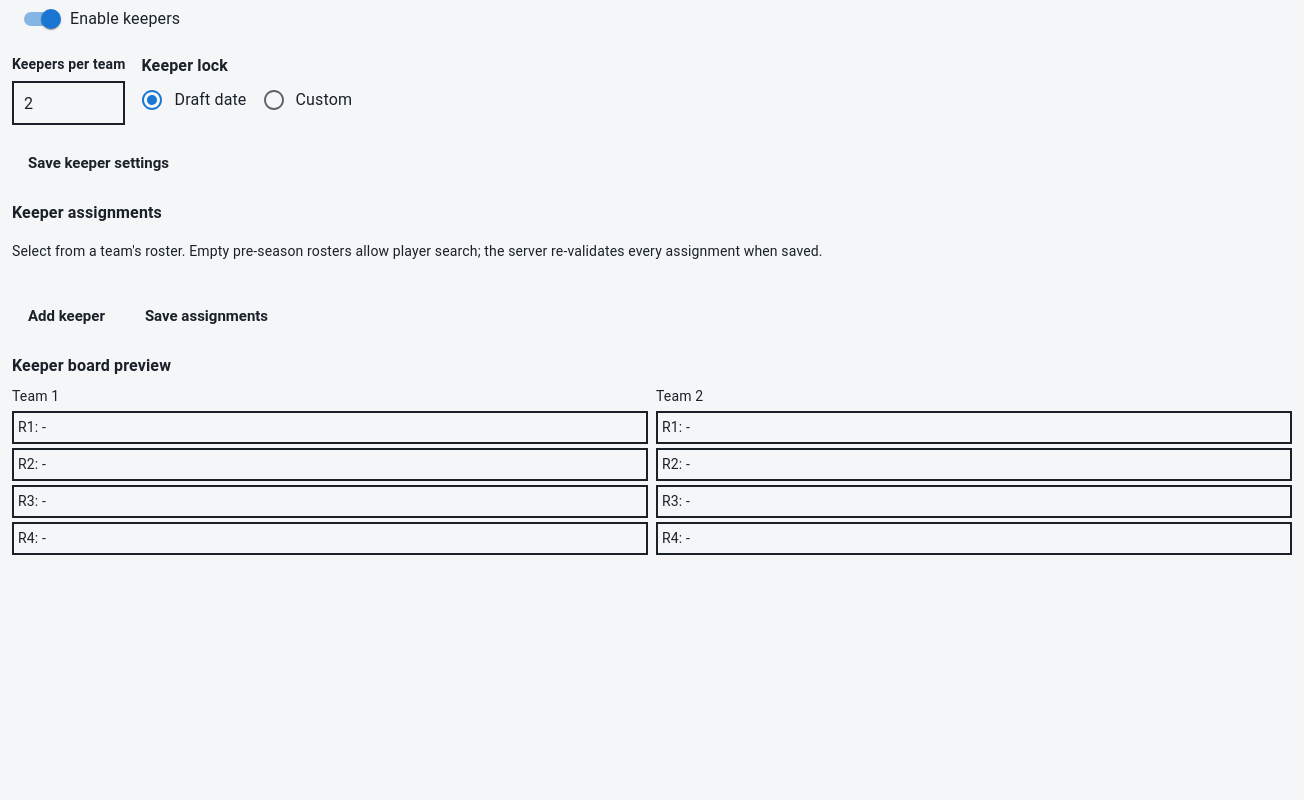
keeper player search › discards a stale player-search response after a newer search resolves first
This screenshot has width=1304, height=800.
Click the button "Add keeper": (66, 316) [12,294,121,338]
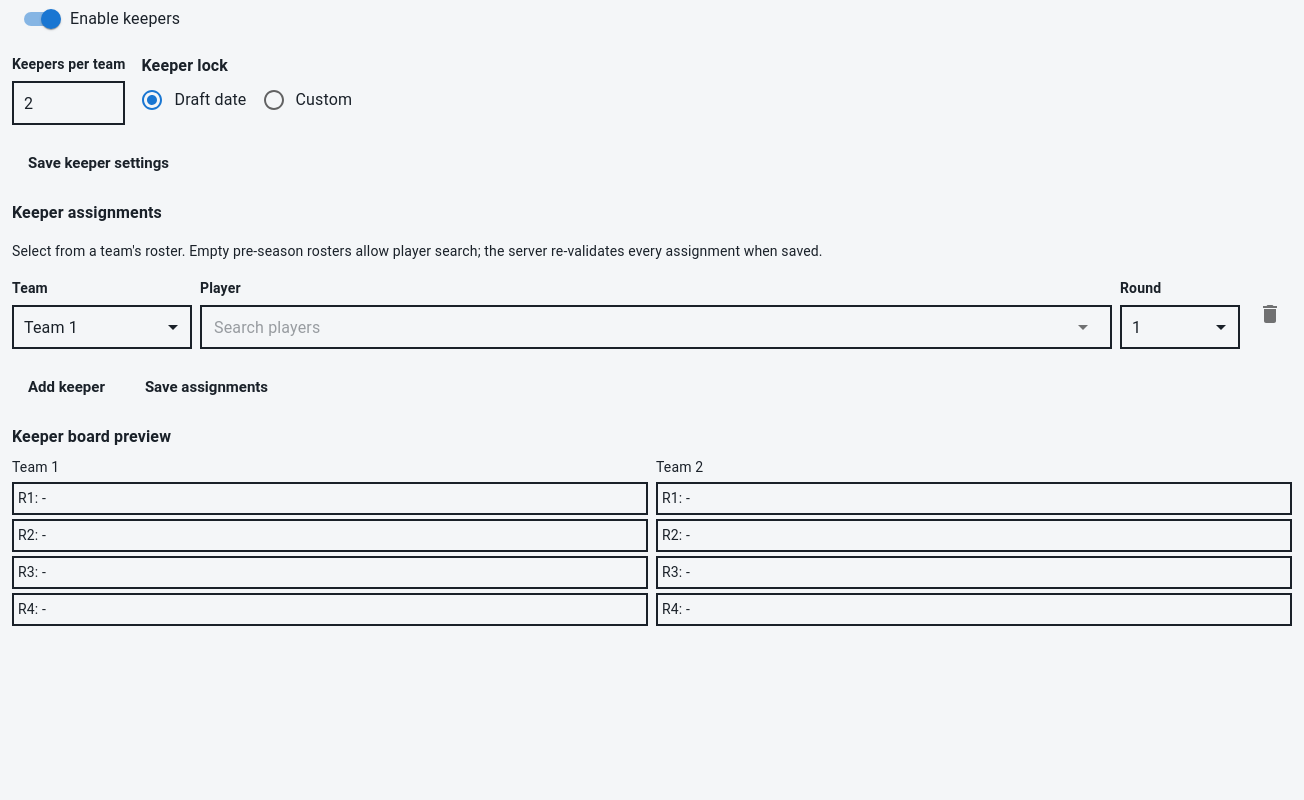
In the dropdown labelled "Player": (641, 327) [209,305,1073,349], type "aar"
Wait 250 ms
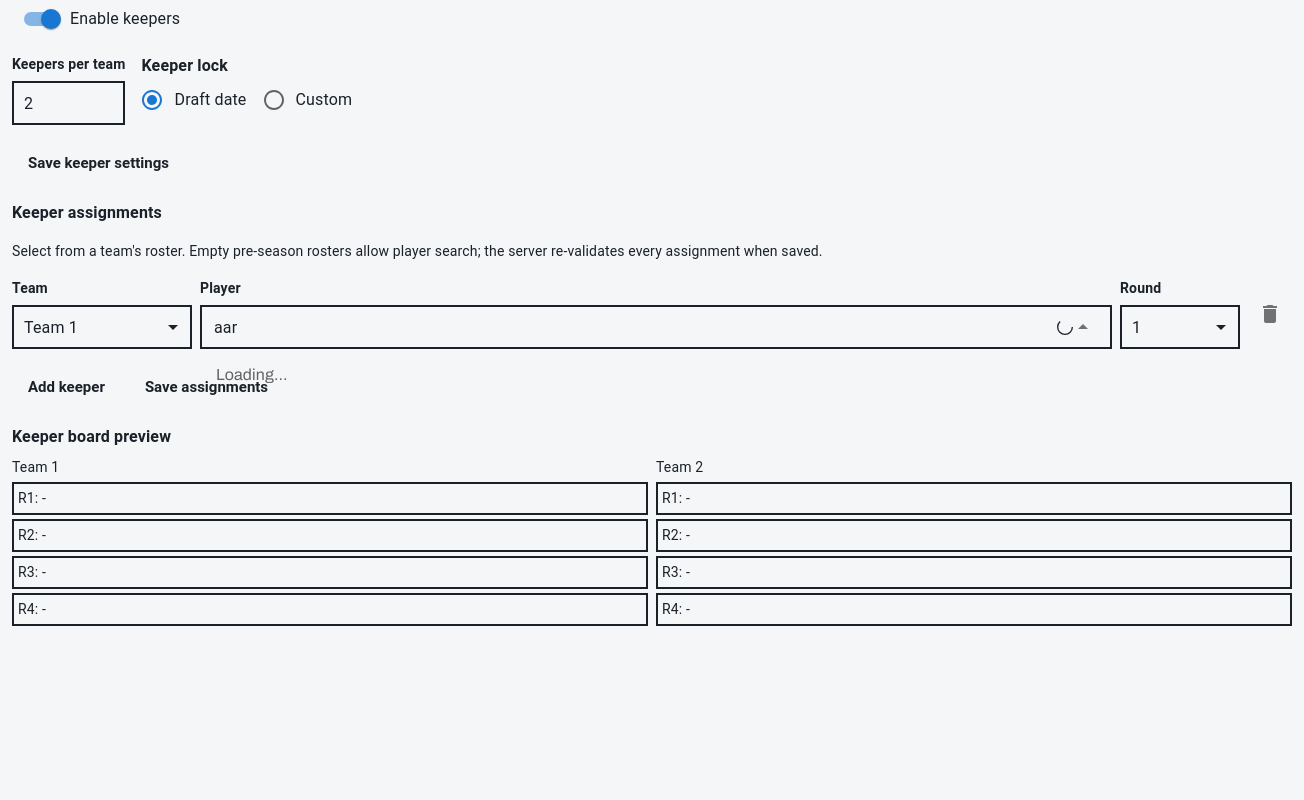
Clear the dropdown labelled "Player": (633, 327) [209,305,1057,349]
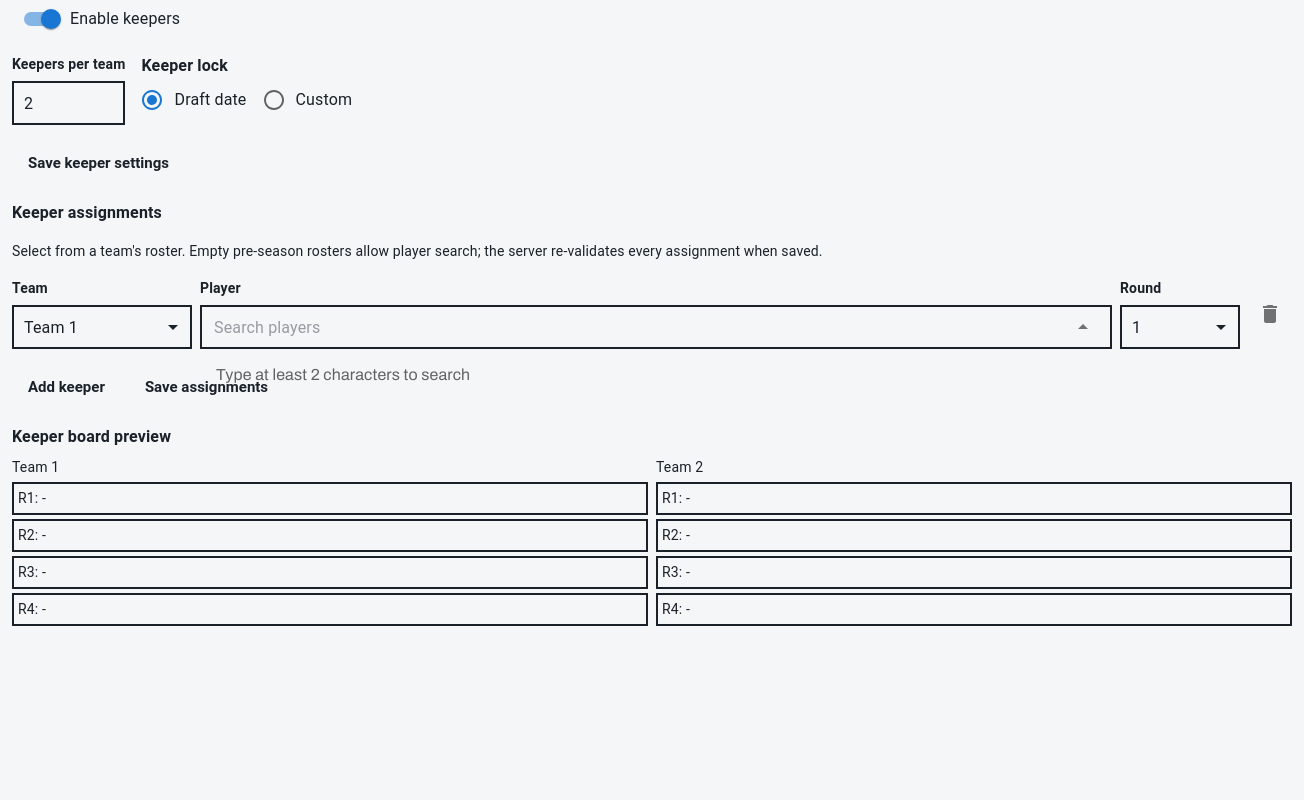
In the dropdown labelled "Player": (641, 327) [209,305,1073,349], type "aaron"
Wait 250 ms
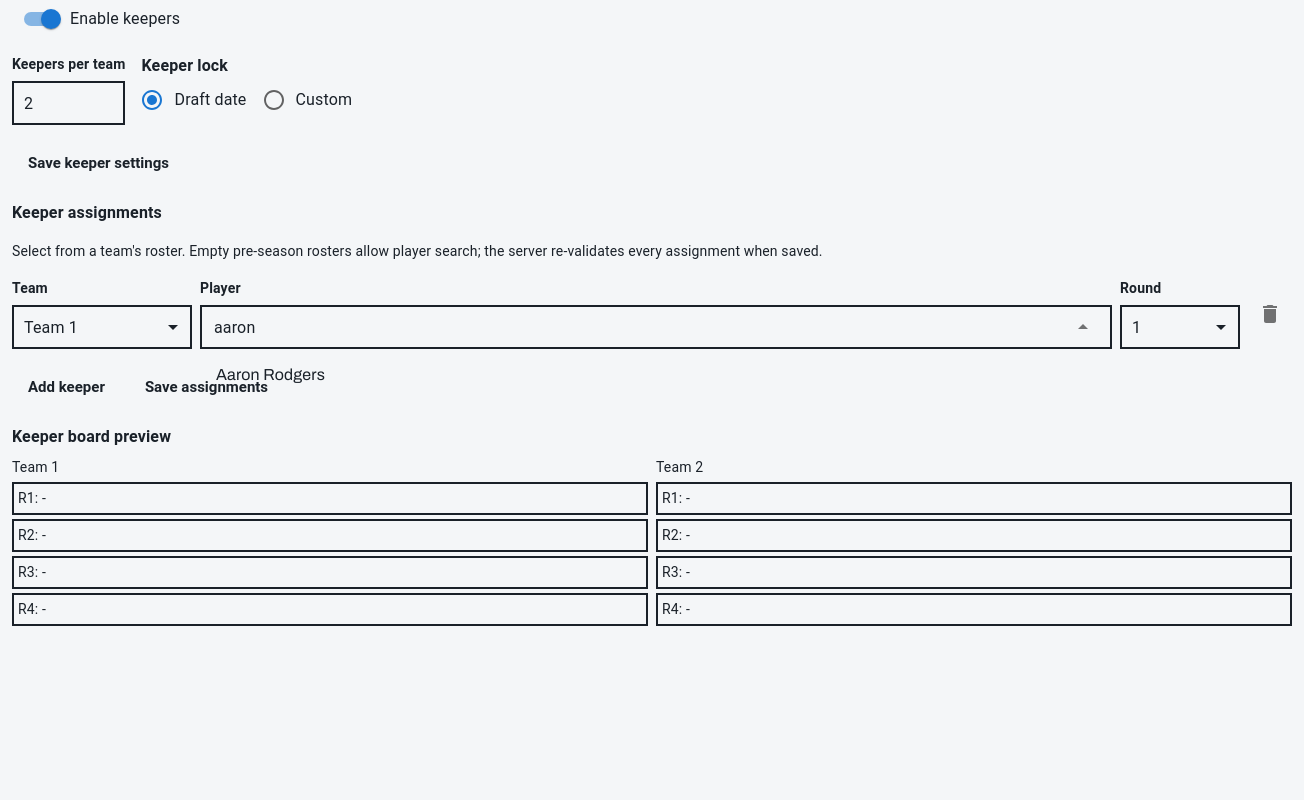
Check: the option "Aaron Rodgers" is shown, box [216,366,325,383]
